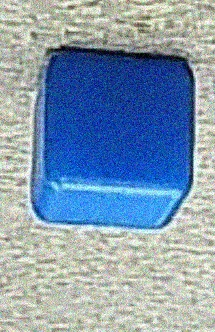blue_cube: (23, 30, 203, 239)
